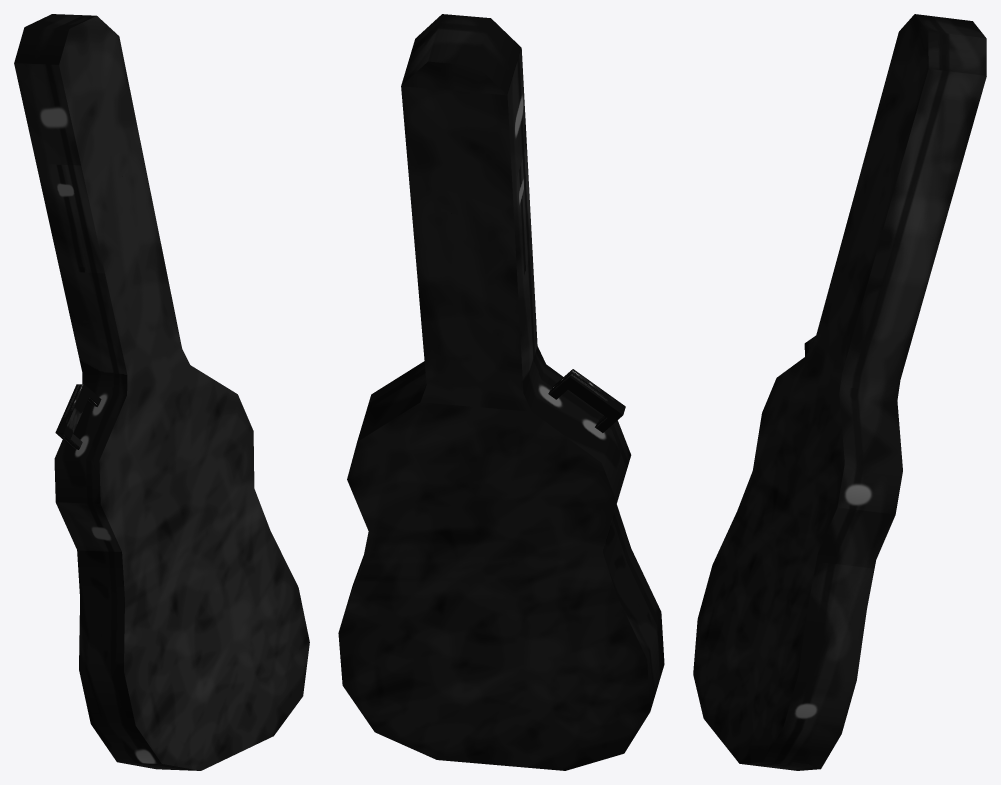
File: obj_GuitarCase.fbx
3 views of the same model, side by side, from view 1: azimuth 30°, elevation 25°; view 2: azimuth 150°, elevation 25°; view 3: azimuth 270°, elevation 25° (orthographic). The views are drawn at different scales.
Visible parts, largest first — view 1: obj_GuitarCase; view 2: obj_GuitarCase; view 3: obj_GuitarCase.
Part boxes in pixels (<box>): obj_GuitarCase: <box>14,14,309,770</box>; obj_GuitarCase: <box>338,14,664,770</box>; obj_GuitarCase: <box>693,14,986,770</box>.
Size of the model in its own units: 0.4162 by 1.15 by 0.4322.
